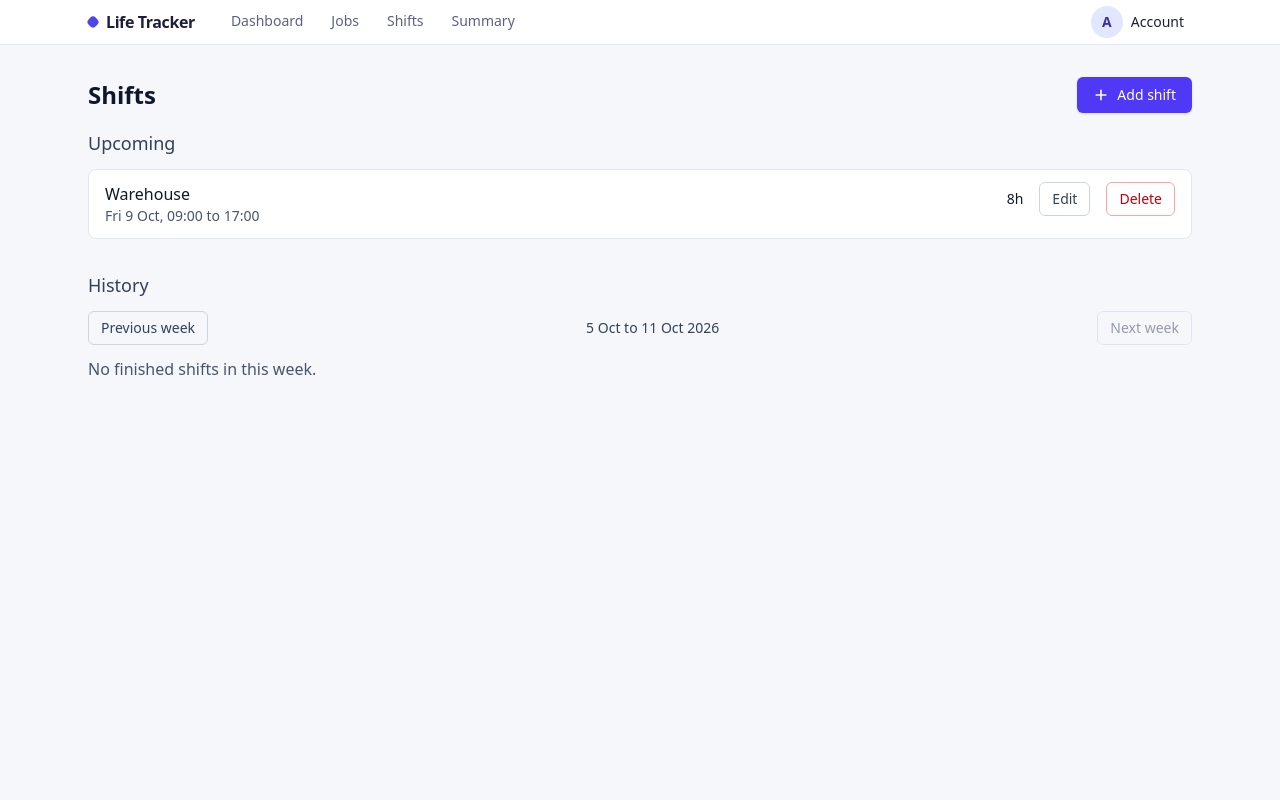
it: ShiftsPage › keeps the edit dialog open and shows the server's error when saving fails
The width and height of the screenshot is (1280, 800).
Click the button "Edit" at (1065, 199), box [1039,182,1090,216]
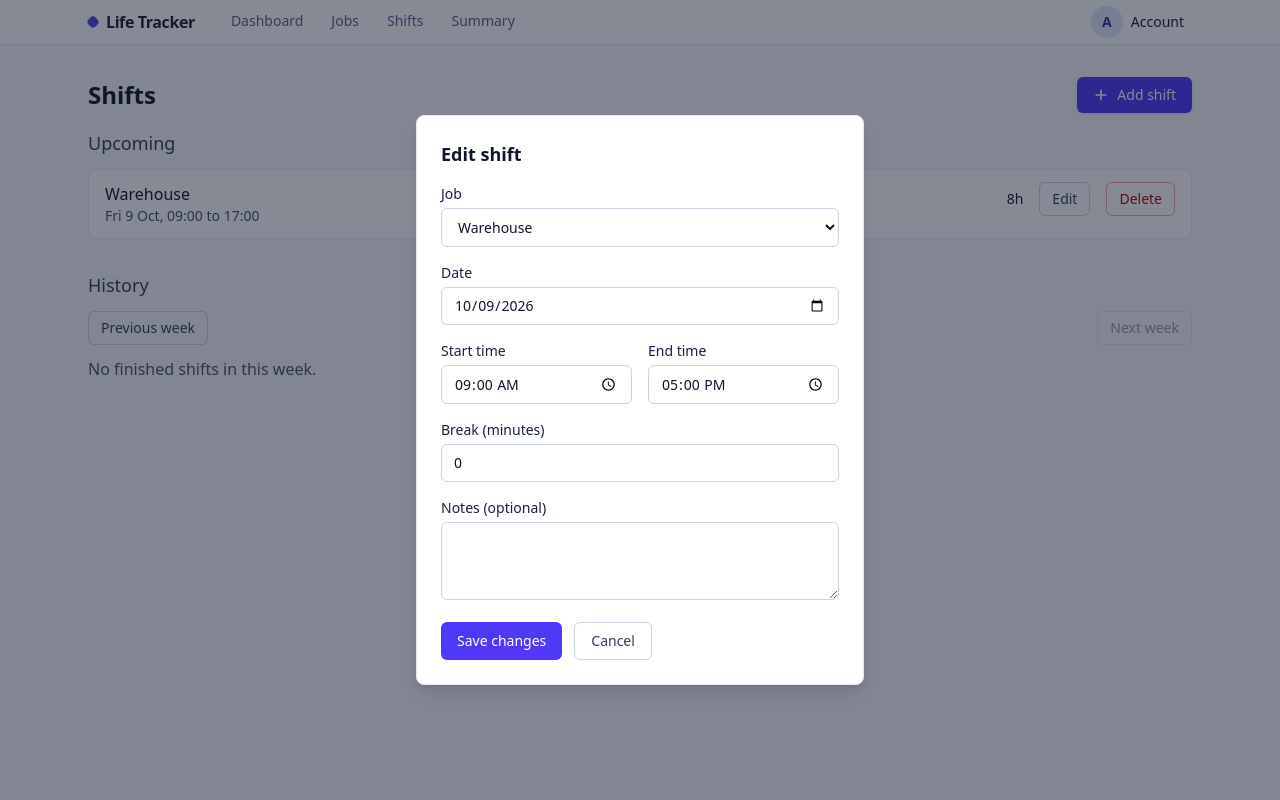
Click the button "Save changes" at (502, 641), box [441,622,562,660]
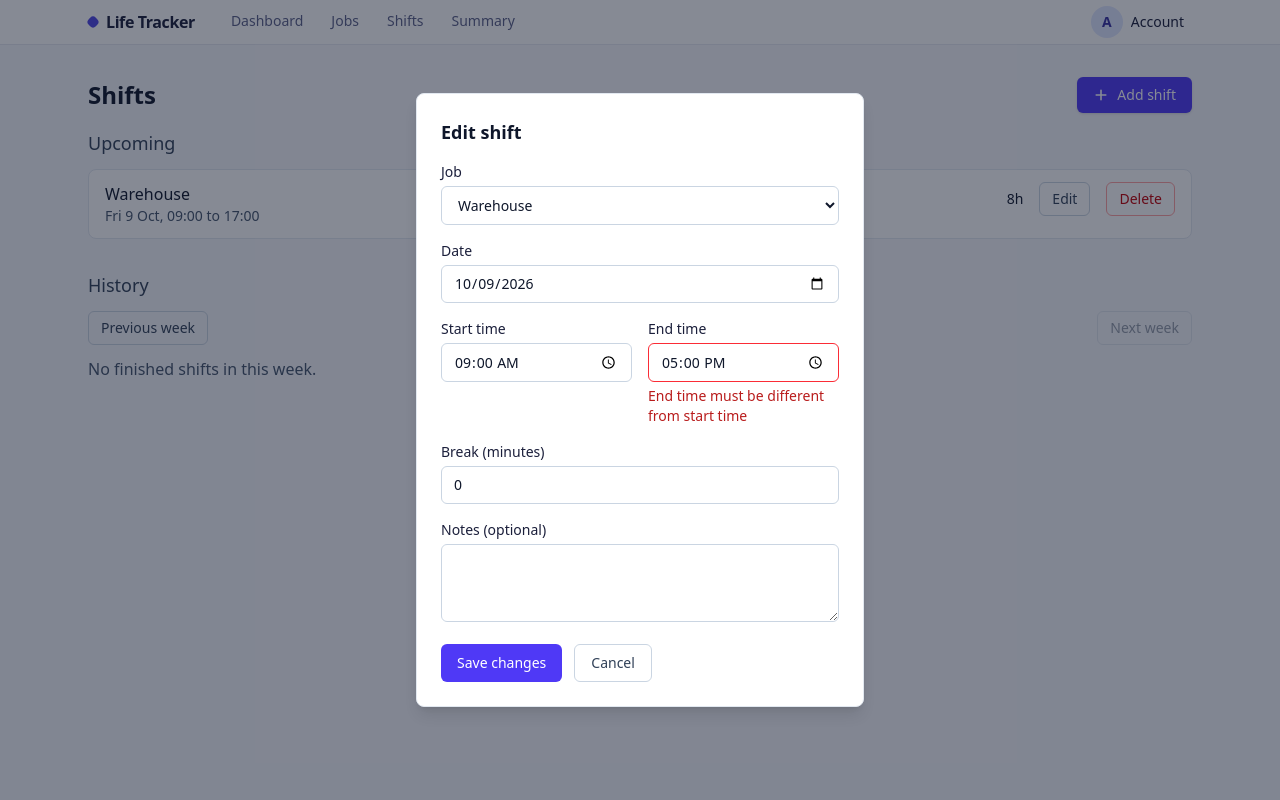
Expected: the dialog "Edit shift" is shown, [416,93,864,707]
Expected: the text "End time must be different from start time" is shown, [648,386,839,426]
